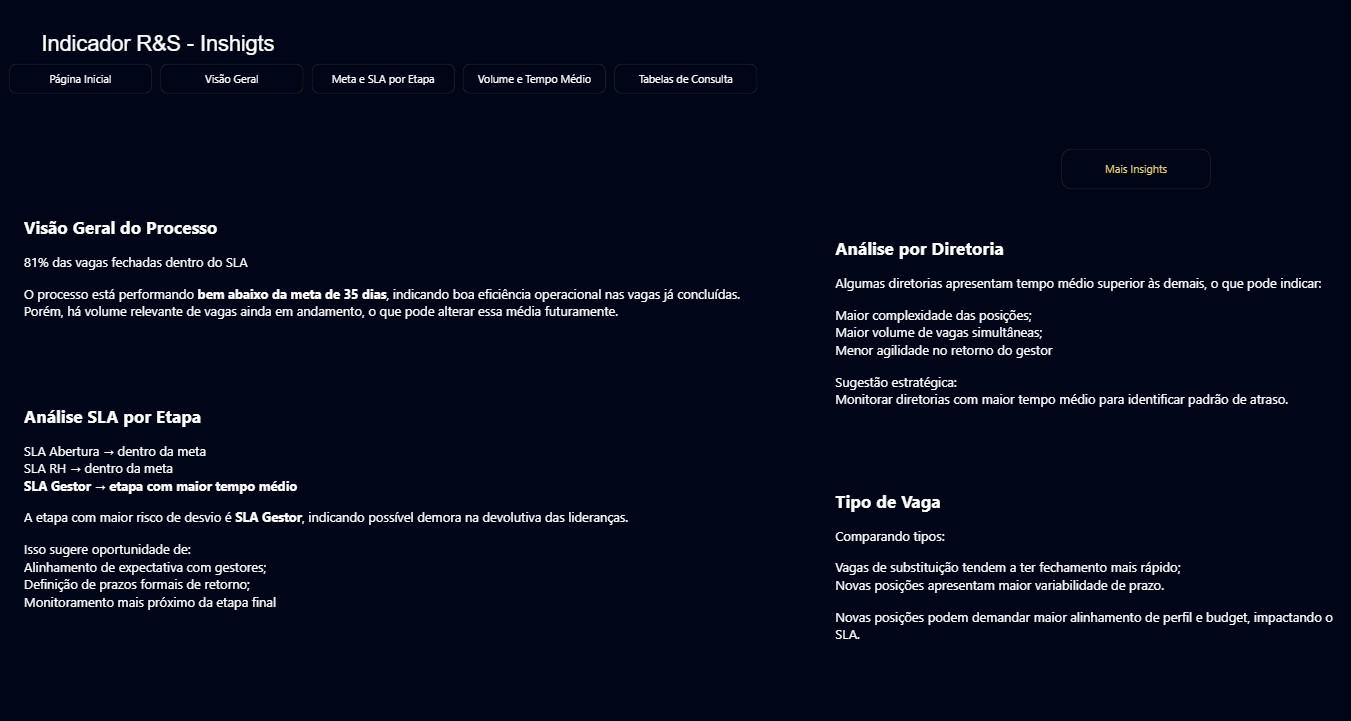

What the dashboard file says about the page in this screenshot:
{"tool":"powerbi","page":{"name":"Insights","canvas":[1700,900],"ordinal":5},"visuals":[{"type":"image","box":[1176.3,25,499,100.1],"z":0},{"type":"textbox","box":[47,34.2,527.9,70.5],"z":1000},{"type":"pageNavigator","box":[10.1,79.3,926.1,37.1],"z":2000},{"type":"textbox","box":[24,260.4,926.1,219.3],"z":3000},{"type":"textbox","box":[24,494.9,779.3,283.4],"z":4000},{"type":"textbox","box":[1027.6,287.4,632.6,259.8],"z":5000},{"type":"textbox","box":[1027.6,599.5,632.6,232.8],"z":6000},{"type":"pageNavigator","box":[1310.7,183.9,185.6,50.6],"z":7000}]}

Visuals, with their boxes in screenshot pixels (x1, y1, x2, y2), scaled from the page's 1700x900 canvas onto the 1351x721 screenshot:
image: bbox(935, 20, 1331, 100)
textbox: bbox(37, 27, 457, 84)
pageNavigator: bbox(8, 64, 744, 93)
textbox: bbox(19, 209, 755, 384)
textbox: bbox(19, 396, 638, 624)
textbox: bbox(817, 230, 1319, 438)
textbox: bbox(817, 480, 1319, 667)
pageNavigator: bbox(1042, 147, 1189, 188)
